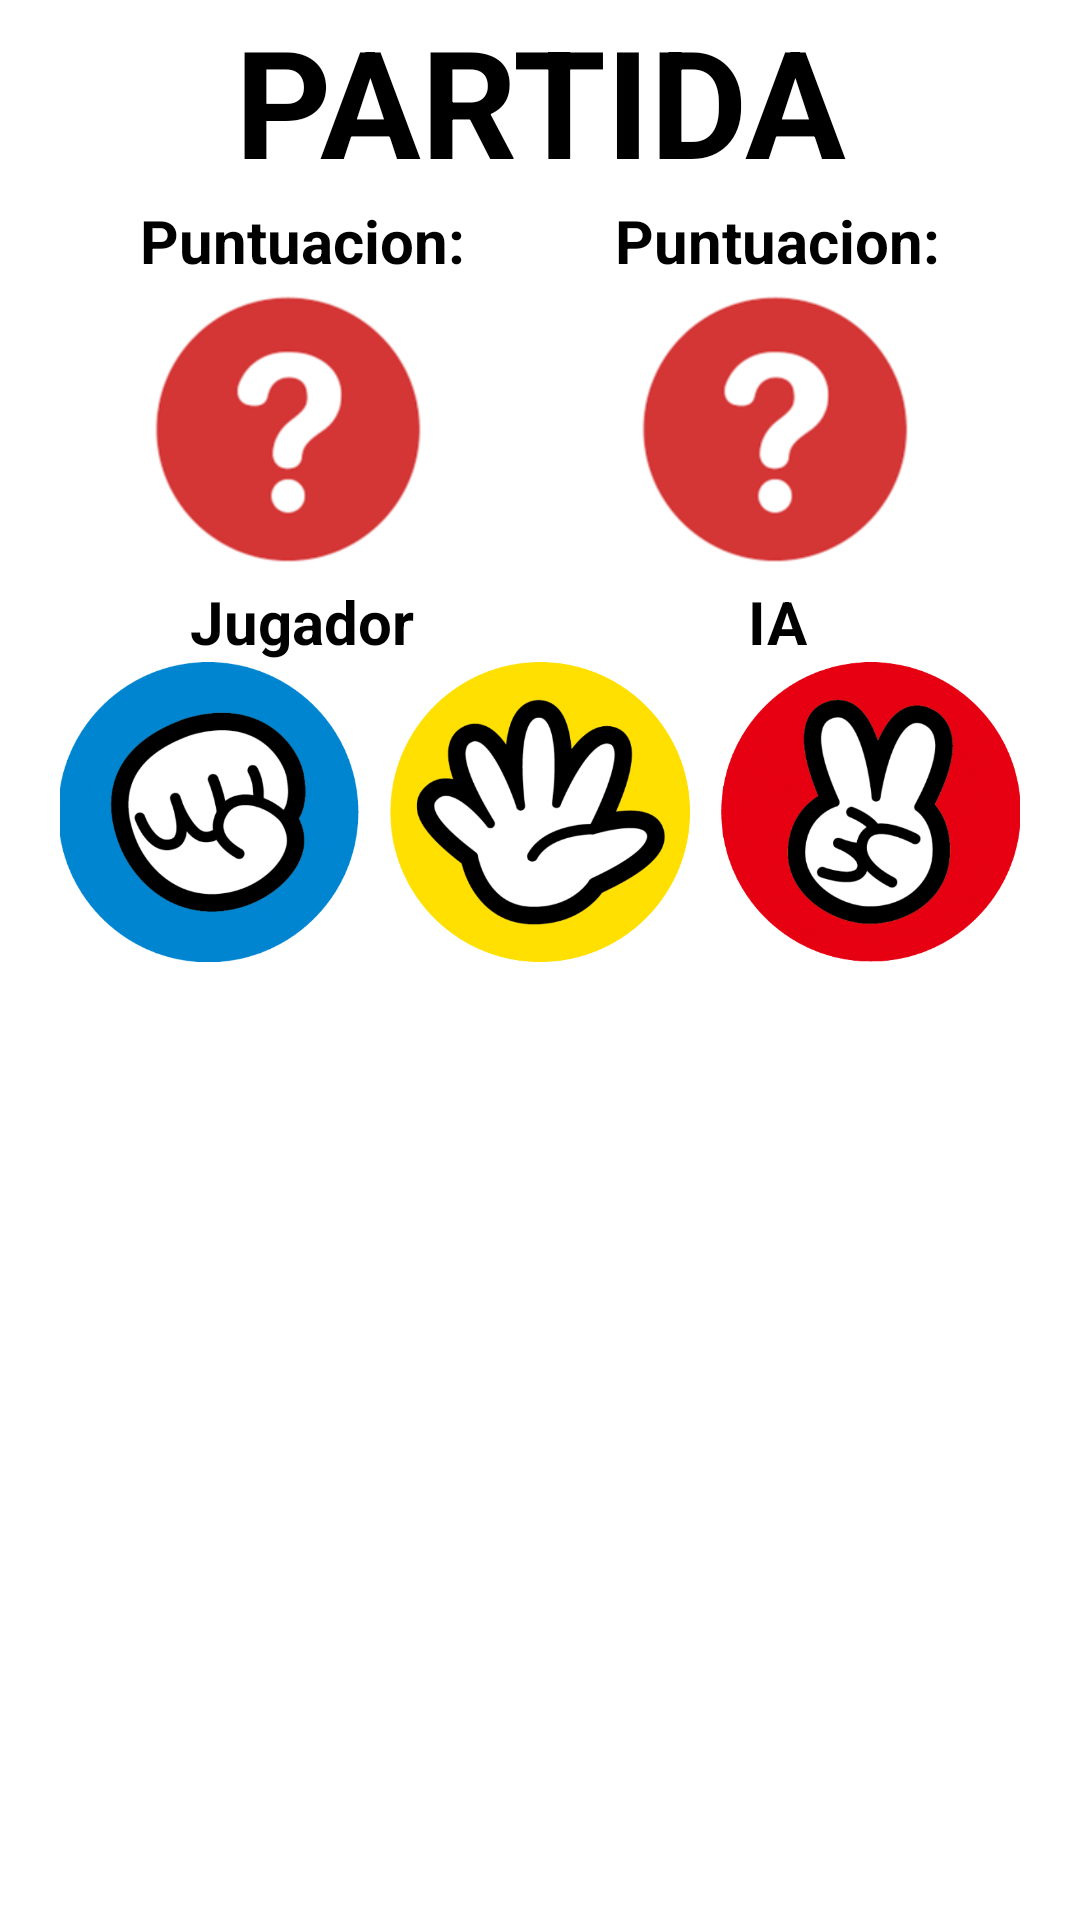

Point at icon controls on the screen. Image size 1080x1920, points as point (x, y).
interrogacion: point (288, 429), point (775, 429)
papel: point (540, 812)
piedra: point (209, 812)
tijeras: point (870, 812)
